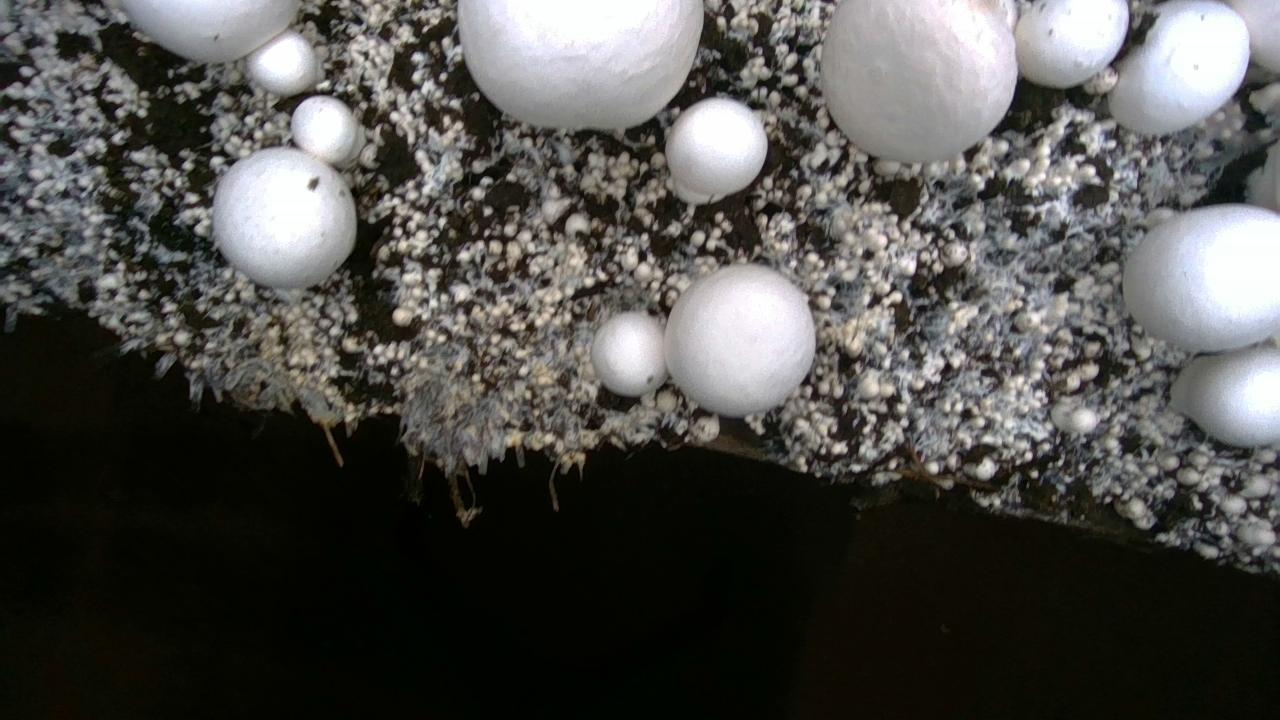WB: (821, 0, 1017, 162), (458, 0, 703, 128), (664, 264, 815, 417), (1123, 204, 1279, 351), (213, 147, 356, 288), (1108, 0, 1249, 135), (665, 98, 767, 204), (122, 0, 298, 61), (1171, 347, 1279, 446), (1014, 0, 1128, 87), (591, 312, 666, 396), (291, 95, 365, 167), (246, 30, 317, 96)
